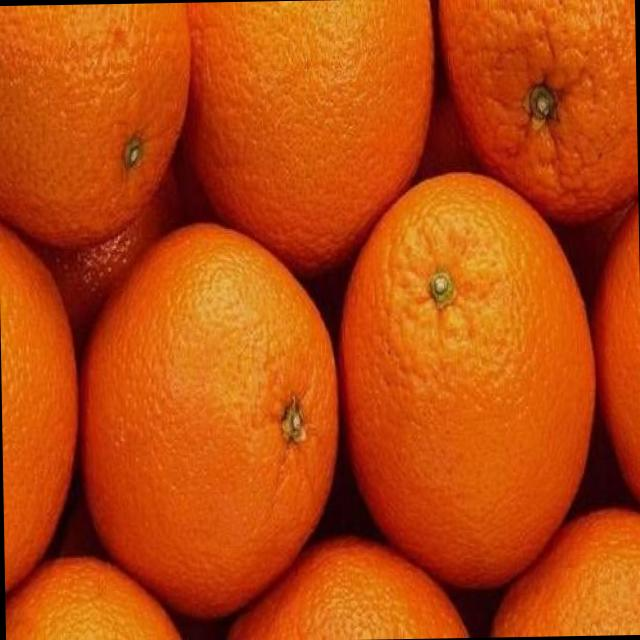orange: (328, 162, 598, 598), (72, 232, 346, 614), (167, 0, 453, 292)
